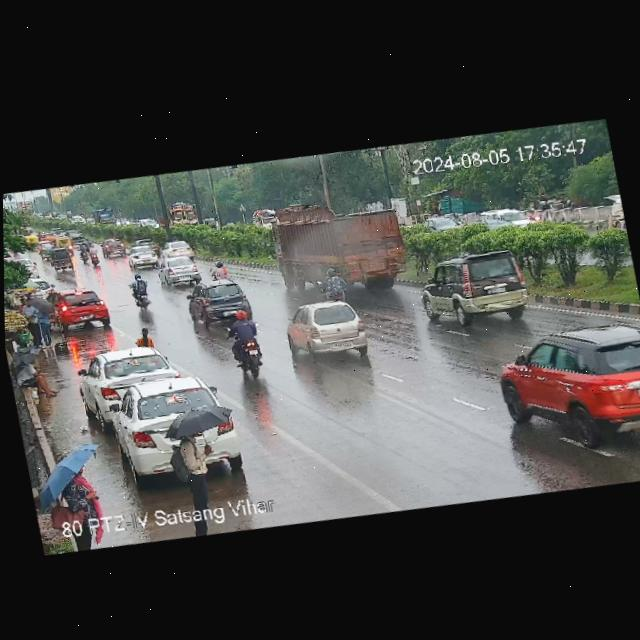car: (488, 311, 640, 457), (103, 366, 244, 494), (413, 241, 535, 332), (75, 338, 183, 435), (276, 294, 372, 372), (178, 272, 255, 333), (42, 284, 111, 336), (158, 253, 204, 289), (159, 237, 195, 259), (129, 248, 162, 271), (49, 245, 74, 274), (99, 237, 127, 259), (129, 243, 161, 259), (132, 235, 159, 253), (22, 231, 42, 253), (49, 234, 72, 251), (69, 229, 89, 247)
motorcycle: (216, 307, 268, 385), (314, 261, 349, 305), (124, 271, 157, 312), (207, 257, 230, 283), (83, 244, 102, 267), (86, 242, 100, 267), (527, 205, 540, 223)
person: (158, 396, 247, 505), (29, 435, 118, 525), (8, 340, 62, 405), (18, 292, 55, 347)
truck: (263, 190, 414, 309), (155, 199, 201, 232)
